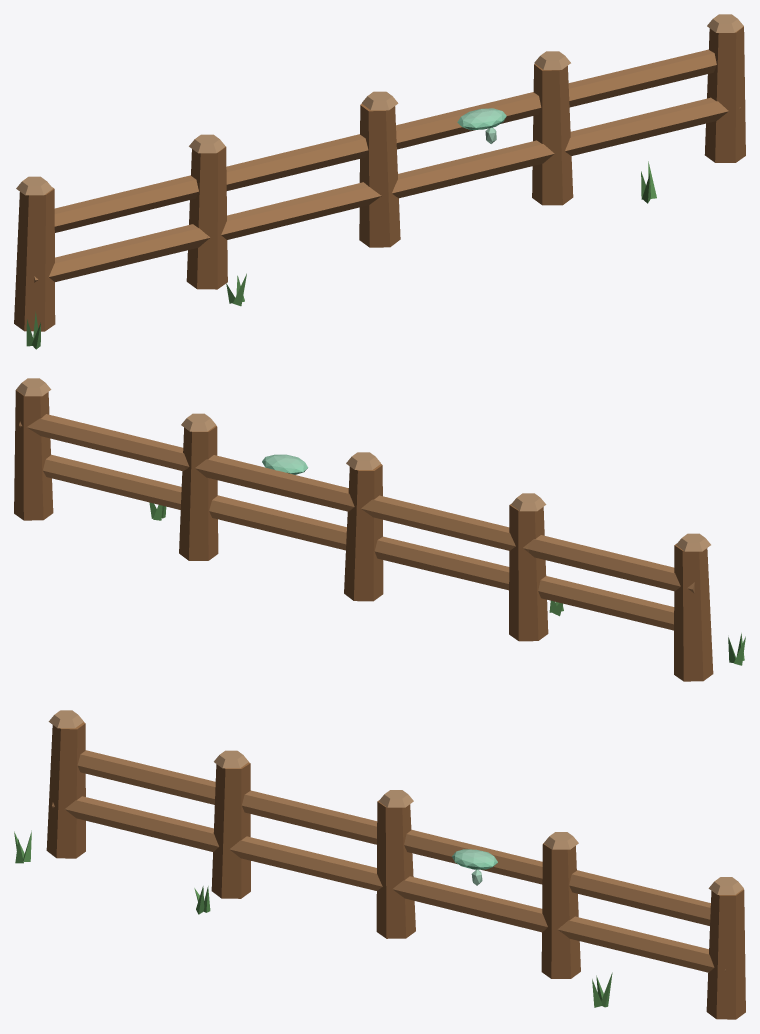
Rendered from ranch_border_fence_straight.fbx.
3 renders of one model, top to bottom at view 1: azimuth 30°, elevation 25°; view 2: azimuth 150°, elevation 25°; view 3: azimuth 330°, elevation 25°, orthographic. The views are drawn at different scales.
Parts seen in each view (by area): view 1: ranch_border_fence_straight; view 2: ranch_border_fence_straight; view 3: ranch_border_fence_straight.
Boxes of the visible parts, <box> form: ranch_border_fence_straight: <box>14,14,745,349</box>; ranch_border_fence_straight: <box>14,378,745,681</box>; ranch_border_fence_straight: <box>14,710,745,1019</box>.
Size of the model in its own units: 25.62 by 4.78 by 2.7.
